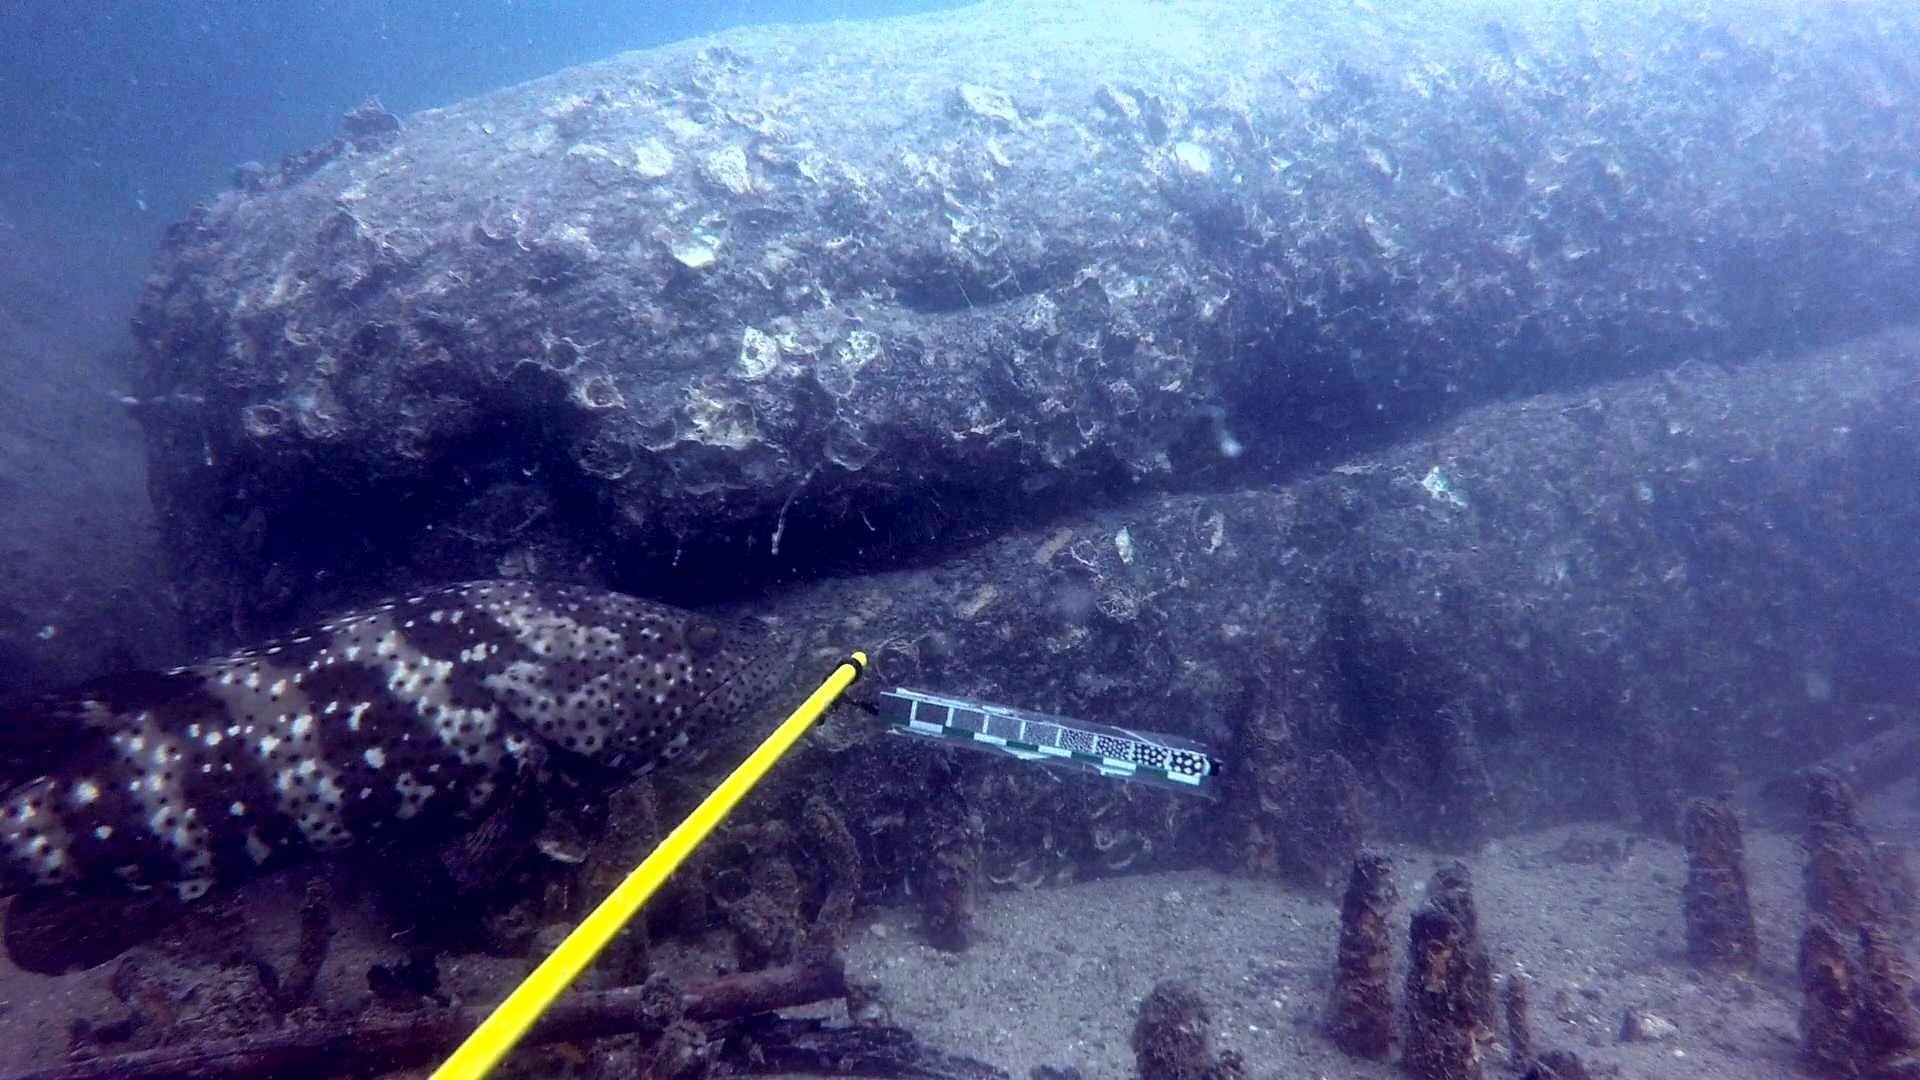epinephelus: (0, 575, 808, 981)
